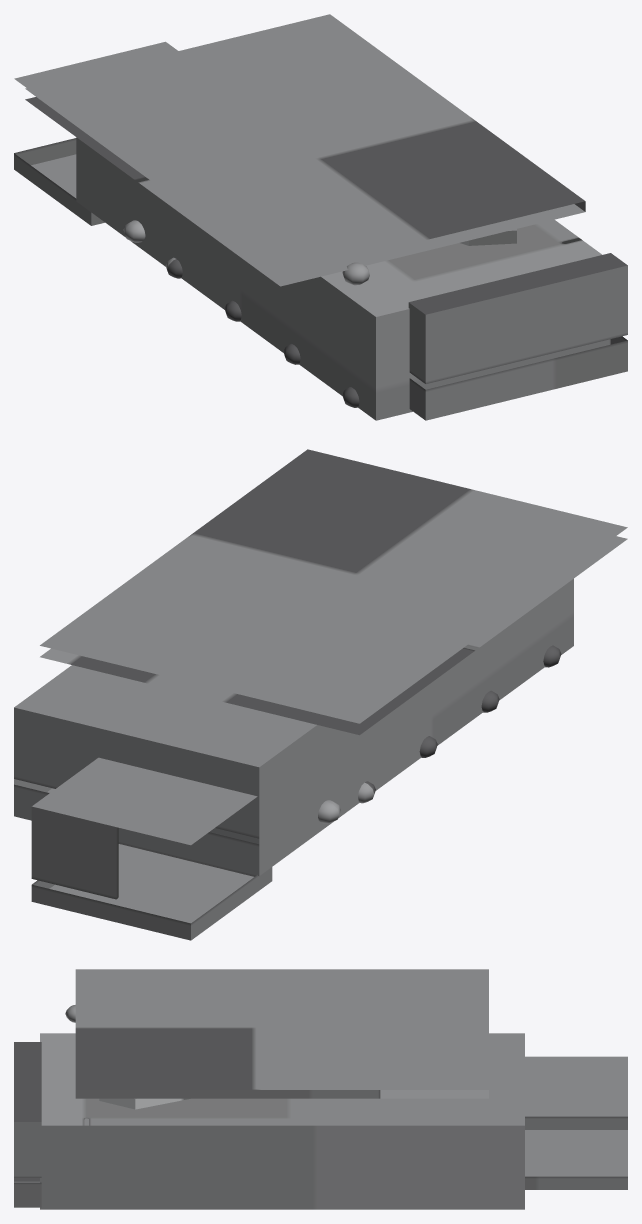
3 renders of one model, top to bottom at view 1: azimuth 30°, elevation 25°; view 2: azimuth 150°, elevation 25°; view 3: azimuth 270°, elevation 25°, orthographic. The views are drawn at different scales.
Bounding box in the file's own units: 1.03 × 0.5166 × 2.19.
